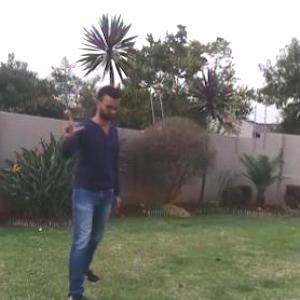land_hand: (56, 108, 86, 138)
